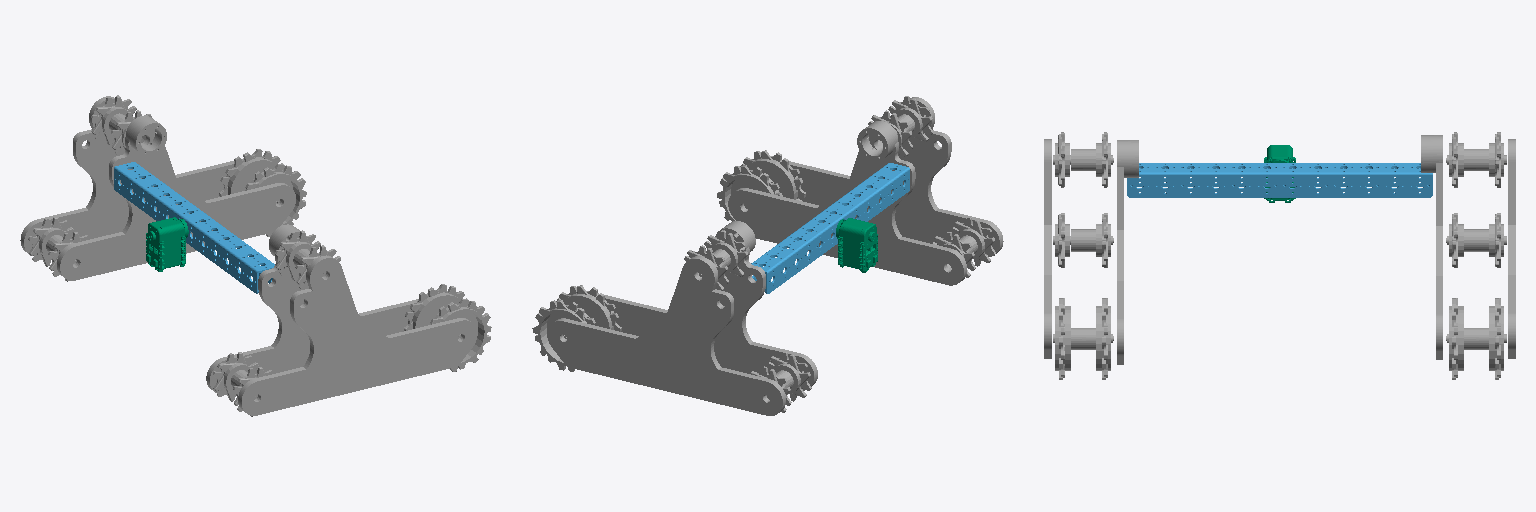
robot.urdf — aaly:
<?xml version="1.0" ?>
<robot name="aaly" xmlns:xacro="http://ros.org/wiki/xacro">

  <joint name="fixed" type="fixed">
      <parent link="world"/>
      <child link="track_creator__base_link"/>
  </joint>
  <joint name="track_creator__j1" type="continuous">
    <parent link="track_creator__base_link"/>
    <child link="track_creator__motor1"/>
    <origin rpy="0 0 0" xyz="-0.107 0 0.12427"/>
    <axis xyz="1 0 0"/>
    <limit effort="0" lower="0" upper="0" velocity="0"/>
  </joint>
  <joint name="track_creator__Left_Track_Side_joint" type="fixed">
    <parent link="track_creator__base_link"/>
    <child link="track_creator__Left_Side_Track_Support"/>
    <origin rpy="0 0 0" xyz="-0.01373 -0.15812 0.06562"/>
    <axis xyz="0 0 0"/>
    <limit effort="0" lower="0" upper="0" velocity="0"/>
  </joint>
  <joint name="track_creator__Right_Track_Side_joint" type="fixed">
    <parent link="track_creator__base_link"/>
    <child link="track_creator__Right_Side_Track_Support"/>
    <origin rpy="0 0 0" xyz="-0.01373 0.15812 0.07062"/>
    <axis xyz="0 0 0"/>
    <limit effort="0" lower="0" upper="0" velocity="0"/>
  </joint>
  <joint name="track_creator__drum_joint1" type="fixed">
    <parent link="track_creator__Left_Side_Track_Support"/>
    <child link="track_creator__drum1"/>
    <origin rpy="1.57079 0 0" xyz="-0.1091 -0.038 -0.03562"/>
    <axis xyz="0 0 -1"/>
    <limit effort="0" lower="0" upper="0" velocity="0"/>
  </joint>
  <joint name="track_creator__drum_joint2" type="fixed">
    <parent link="track_creator__Right_Side_Track_Support"/>
    <child link="track_creator__drum2"/>
    <origin rpy="1.57079 0 0" xyz="-0.1091 0.038 -0.04062"/>
    <axis xyz="0 0 -1"/>
    <limit effort="0" lower="0" upper="0" velocity="0"/>
  </joint>
  <joint name="track_creator__drum_joint3" type="fixed">
    <parent link="track_creator__Left_Side_Track_Support"/>
    <child link="track_creator__drum3"/>
    <origin rpy="1.57079 0 0" xyz="0.13857 -0.038 -0.028"/>
    <axis xyz="0 0 -1"/>
    <limit effort="0" lower="0" upper="0" velocity="0"/>
  </joint>
  <joint name="track_creator__drum_joint4" type="fixed">
    <parent link="track_creator__Right_Side_Track_Support"/>
    <child link="track_creator__drum4"/>
    <origin rpy="1.57079 0 0" xyz="0.13857 0.038 -0.033"/>
    <axis xyz="0 0 -1"/>
    <limit effort="0" lower="0" upper="0" velocity="0"/>
  </joint>
  <joint name="track_creator__drum_joint5" type="fixed">
    <parent link="track_creator__Left_Side_Track_Support"/>
    <child link="track_creator__drum5"/>
    <origin rpy="1.57079 0 0" xyz="-0.03231 -0.038 0.08871"/>
    <axis xyz="0 0 -1"/>
    <limit effort="0" lower="0" upper="0" velocity="0"/>
  </joint>
  <joint name="track_creator__drum_joint6" type="fixed">
    <parent link="track_creator__Right_Side_Track_Support"/>
    <child link="track_creator__drum6"/>
    <origin rpy="1.57079 0 0" xyz="-0.03231 0.038 0.08371"/>
    <axis xyz="0 0 -1"/>
    <limit effort="0" lower="0" upper="0" velocity="0"/>
  </joint>
  <joint name="track_creator__Left_Side_Track_Cover_joint" type="fixed">
    <parent link="track_creator__Left_Side_Track_Support"/>
    <child link="track_creator__Left_Side_Track_Cover"/>
    <origin rpy="0 0 0" xyz="0.00029 -0.07299 -0.00449"/>
    <axis xyz="0 0 0"/>
    <limit effort="0" lower="0" upper="0" velocity="0"/>
  </joint>
  <joint name="track_creator__Right_Side_Track_Cover_joint" type="fixed">
    <parent link="track_creator__Right_Side_Track_Support"/>
    <child link="track_creator__Right_Side_Track_Cover"/>
    <origin rpy="0 0 0" xyz="0.00029 0.07299 -0.0095"/>
    <axis xyz="0 0 0"/>
    <limit effort="0" lower="0" upper="0" velocity="0"/>
  </joint>

  <!-- Used for fixing robot to Gazebo 'base_link' -->
  <link name="world"/>

  <link name="track_creator__base_link">
    <inertial>
      <mass value="0.36"/>
      <origin rpy="0 0 0" xyz="0 0 0"/>
      <inertia ixx="0.0028086383999999997" ixy="0.0" ixz="0.0" iyy="4.3094400000000005e-05" iyz="0.0" izz="0.0028086383999999997"/>
    </inertial>
    <collision name="track_creator__base_link_collision">
      <origin rpy="0 0 0" xyz="-0.07 0 0.12427"/>
      <geometry>
        <box size="0.026988 0.3000 0.026988"/>
      </geometry>
    </collision>
    <visual name="track_creator__base_link_visual">
      <origin rpy="0 0 0" xyz="-0.07 0 0.12427"/>
      <geometry>
        <mesh filename="package://aaly_urdf/meshes/Horizontal_Support_Bar_ASB-512.dae" scale="1.0 1.0 1.0"/>
      </geometry>
    </visual>
  </link>
  <link name="track_creator__motor1">
    <inertial>
      <mass value="0.055"/>
      <origin rpy="0 0 0" xyz="0 0 0"/>
      <inertia ixx="1.8791666666e-05" ixy="0.0" ixz="0.0" iyy="1.7086666666e-05" iyz="0.0" izz="1.2026666666e-05"/>
    </inertial>
    <collision name="track_creator__motor1_collision">
      <origin rpy="0 0 0" xyz="0 0 0"/>
      <geometry>
        <box size="0.04 0.032 0.050"/>
      </geometry>
    </collision>
    <visual name="track_creator__motor1_visual">
      <origin rpy="0 0 0" xyz="0 0 0"/>
      <geometry>
        <mesh filename="package://aaly_urdf/meshes/AX12-A_origin_same_as_center_of_mass.stl" scale="1.0 1.0 1.0"/>
      </geometry>
    </visual>
  </link>
  <link name="track_creator__Left_Side_Track_Support">
    <inertial>
      <mass value="0.05"/>
      <origin rpy="0 0 0" xyz="0 0 0"/>
      <inertia ixx="0" ixy="0" ixz="0" iyy="0" iyz="0" izz="0"/>
    </inertial>
    <collision name="track_creator__Left_Side_Track_Support_collision">
      <origin rpy="0 0 0" xyz="0 0 0.015"/>
      <geometry>
        <mesh filename="package://aaly_urdf/meshes/Track_Support_Collision_Mesh.dae" scale="1.0 1.0 1.0"/>
      </geometry>
    </collision>
    <visual name="track_creator__Left_Side_Track_Support_visual">
      <origin rpy="0 0 0" xyz="0 0 0"/>
      <geometry>
        <mesh filename="package://aaly_urdf/meshes/Track_Support_Left_Side.dae" scale="1.0 1.0 1.0"/>
      </geometry>
    </visual>
  </link>
  <link name="track_creator__Right_Side_Track_Support">
    <inertial>
      <mass value="0.05"/>
      <origin rpy="0 0 0" xyz="0 0 0"/>
      <inertia ixx="0" ixy="0" ixz="0" iyy="0" iyz="0" izz="0"/>
    </inertial>
    <collision name="track_creator__Right_Side_Track_Support_collision">
      <origin rpy="0 0 0" xyz="0 0 0.015"/>
      <geometry>
        <mesh filename="package://aaly_urdf/meshes/Track_Support_Collision_Mesh.dae" scale="1.0 1.0 1.0"/>
      </geometry>
    </collision>
    <visual name="track_creator__Left_Side_Track_Support_visual">
      <origin rpy="0 0 0" xyz="0 0 0"/>
      <geometry>
        <mesh filename="package://aaly_urdf/meshes/Track_Support_Right_Side.dae" scale="1.0 1.0 1.0"/>
      </geometry>
    </visual>
  </link>
  <link name="track_creator__drum1">
    <inertial>
      <mass value="0.1"/>
      <origin rpy="0 0 0" xyz="0 0 0"/>
      <inertia ixx="4.0003370625000006e-05" ixy="0.0" ixz="0.0" iyy="4.0003370625000006e-05" iyz="0.0" izz="3.624778125000001e-05"/>
    </inertial>
    <collision name="track_creator__drum1_collision">
      <origin rpy="0 0 0" xyz="0 0 0"/>
      <geometry>
        <cylinder length="0.05124" radius="0.026525"/>
      </geometry>
    </collision>
    <visual name="track_creator__drum1_visual">
      <origin rpy="0 0 0" xyz="0 0 0"/>
      <geometry>
        <mesh filename="package://aaly_urdf/meshes/Lynx_Sproket6in_Hub13.dae" scale="1.0 1.0 1.0"/>
      </geometry>
    </visual>
  </link>
  <link name="track_creator__drum2">
    <inertial>
      <mass value="0.1"/>
      <origin rpy="0 0 0" xyz="0 0 0"/>
      <inertia ixx="4.0003370625000006e-05" ixy="0.0" ixz="0.0" iyy="4.0003370625000006e-05" iyz="0.0" izz="3.624778125000001e-05"/>
    </inertial>
    <collision name="track_creator__drum2_collision">
      <origin rpy="0 0 0" xyz="0 0 0"/>
      <geometry>
        <cylinder length="0.05124" radius="0.026525"/>
      </geometry>
    </collision>
    <visual name="track_creator__drum2_visual">
      <origin rpy="0 0 0" xyz="0 0 0"/>
      <geometry>
        <mesh filename="package://aaly_urdf/meshes/Lynx_Sproket6in_Hub13.dae" scale="1.0 1.0 1.0"/>
      </geometry>
    </visual>
  </link>
  <link name="track_creator__drum3">
    <inertial>
      <mass value="0.15"/>
      <origin rpy="0 0 0" xyz="0 0 0"/>
      <inertia ixx="5.5414245624999996e-05" ixy="0.0" ixz="0.0" iyy="5.5414245624999996e-05" iyz="0.0" izz="0.000100604296875"/>
    </inertial>
    <collision name="track_creator__drum3_collision">
      <origin rpy="0 0 0" xyz="0 0 0"/>
      <geometry>
        <cylinder length="0.05124" radius="0.035625"/>
      </geometry>
    </collision>
    <visual name="track_creator__drum3_visual">
      <origin rpy="0 0 0" xyz="0 0 0"/>
      <geometry>
        <mesh filename="package://aaly_urdf/meshes/Lynx_Sproket9in_Hub13.dae" scale="1.0 1.0 1.0"/>
      </geometry>
    </visual>
  </link>
  <link name="track_creator__drum4">
    <inertial>
      <mass value="0.15"/>
      <origin rpy="0 0 0" xyz="0 0 0"/>
      <inertia ixx="5.5414245624999996e-05" ixy="0.0" ixz="0.0" iyy="5.5414245624999996e-05" iyz="0.0" izz="0.000100604296875"/>
    </inertial>
    <collision name="track_creator__drum4_collision">
      <origin rpy="0 0 0" xyz="0 0 0"/>
      <geometry>
        <cylinder length="0.05124" radius="0.035625"/>
      </geometry>
    </collision>
    <visual name="track_creator__drum4_visual">
      <origin rpy="0 0 0" xyz="0 0 0"/>
      <geometry>
        <mesh filename="package://aaly_urdf/meshes/Lynx_Sproket9in_Hub13.dae" scale="1.0 1.0 1.0"/>
      </geometry>
    </visual>
  </link>
  <link name="track_creator__drum5">
    <inertial>
      <mass value="0.1"/>
      <origin rpy="0 0 0" xyz="0 0 0"/>
      <inertia ixx="4.0003370625000006e-05" ixy="0.0" ixz="0.0" iyy="4.0003370625000006e-05" iyz="0.0" izz="3.624778125000001e-05"/>
    </inertial>
    <collision name="track_creator__drum5_collision">
      <origin rpy="0 0 0" xyz="0 0 0"/>
      <geometry>
        <cylinder length="0.05124" radius="0.026525"/>
      </geometry>
    </collision>
    <visual name="track_creator__drum5_visual">
      <origin rpy="0 0 0" xyz="0 0 0"/>
      <geometry>
        <mesh filename="package://aaly_urdf/meshes/Lynx_Sproket6in_Hub13.dae" scale="1.0 1.0 1.0"/>
      </geometry>
    </visual>
  </link>
  <link name="track_creator__drum6">
    <inertial>
      <mass value="0.1"/>
      <origin rpy="0 0 0" xyz="0 0 0"/>
      <inertia ixx="4.0003370625000006e-05" ixy="0.0" ixz="0.0" iyy="4.0003370625000006e-05" iyz="0.0" izz="3.624778125000001e-05"/>
    </inertial>
    <collision name="track_creator__drum6_collision">
      <origin rpy="0 0 0" xyz="0 0 0"/>
      <geometry>
        <cylinder length="0.05124" radius="0.026525"/>
      </geometry>
    </collision>
    <visual name="track_creator__drum6_visual">
      <origin rpy="0 0 0" xyz="0 0 0"/>
      <geometry>
        <mesh filename="package://aaly_urdf/meshes/Lynx_Sproket6in_Hub13.dae" scale="1.0 1.0 1.0"/>
      </geometry>
    </visual>
  </link>
  <link name="track_creator__Left_Side_Track_Cover">
    <inertial>
      <mass value="0.05"/>
      <origin rpy="0 0 0" xyz="0 0 0"/>
      <inertia ixx="0" ixy="0" ixz="0" iyy="0" iyz="0" izz="0"/>
    </inertial>
    <collision name="track_creator__Left_Side_Track_Cover_collision">
      <origin rpy="0 0 0" xyz="0 0 0.015"/>
      <geometry>
        <mesh filename="package://aaly_urdf/meshes/Track_Support_Collision_Mesh.dae" scale="1.0 1.0 1.0"/>
      </geometry>
    </collision>
    <visual name="track_creator__Left_Side_Track_Cover_visual">
      <origin rpy="0 0 0" xyz="0 0 0"/>
      <geometry>
        <mesh filename="package://aaly_urdf/meshes/Track_Support_Cover_Side.dae" scale="1.0 1.0 1.0"/>
      </geometry>
    </visual>
  </link>
  <link name="track_creator__Right_Side_Track_Cover">
    <inertial>
      <mass value="0.05"/>
      <origin rpy="0 0 0" xyz="0 0 0"/>
      <inertia ixx="0" ixy="0" ixz="0" iyy="0" iyz="0" izz="0"/>
    </inertial>
    <collision name="track_creator__Right_Side_Track_Cover_collision">
      <origin rpy="0 0 0" xyz="0 0 0.015"/>
      <geometry>
        <mesh filename="package://aaly_urdf/meshes/Track_Support_Collision_Mesh.dae" scale="1.0 1.0 1.0"/>
      </geometry>
    </collision>
    <visual name="track_creator__Right_Side_Track_Cover_visual">
      <origin rpy="0 0 0" xyz="0 0 0"/>
      <geometry>
        <mesh filename="package://aaly_urdf/meshes/Track_Support_Cover_Side.dae" scale="1.0 1.0 1.0"/>
      </geometry>
    </visual>
  </link>



    <!-- Replaced Gazebo's differential drive plugin with the
         ROS-friendly variant -->

  <!-- Gazebo plugin for ROS Control -->

    <gazebo>
      <plugin name="gazebo_ros_control" filename="libgazebo_ros_control.so">
        <robotNamespace></robotNamespace>
        <robotSimType>gazebo_ros_control/DefaultRobotHWSim</robotSimType>
      </plugin>

      <plugin name='differential_drive_controller'
              filename='libgazebo_ros_diff_drive.so'>
        <alwaysOn>true</alwaysOn>
        <updateRate>100</updateRate>
        <leftJoint>track_creator__drum_joint5</leftJoint>
        <rightJoint>track_creator__drum_joint6</rightJoint>
        <wheelSeparation>0.349</wheelSeparation>
        <wheelDiameter>0.05885</wheelDiameter>
        <torque>20</torque>
        <commandTopic>cmd_vel</commandTopic>
        <odometryTopic>odom</odometryTopic>
        <odometryFrame>odom</odometryFrame>
        <robotBaseFrame>chassis</robotBaseFrame>
      </plugin>

    </gazebo>

  <transmission name="tran1">
    <type>transmission_interface/SimpleTransmission</type>
    <joint name="track_creator__j1">
      <hardwareInterface>hardware_interface/EffortJointInterface</hardwareInterface>
    </joint>
    <actuator name="track_creator__motor1">
      <hardwareInterface>hardware_interface/EffortJointInterface</hardwareInterface>
      <mechanicalReduction>1</mechanicalReduction>
    </actuator>
  </transmission>

</robot>

--- Facts derived from the render (not from the file) ---
3 views of the same robot in one strip: view 1: azimuth 30°, elevation 25°; view 2: azimuth 150°, elevation 25°; view 3: azimuth 270°, elevation 25° (orthographic).
Robot: aaly — 13 links, 12 joints (1 continuous, 11 fixed); root link world; default pose: all joints at 0.
Visible links, largest first — view 1: track_creator__Left_Side_Track_Cover, track_creator__Right_Side_Track_Support, track_creator__base_link, track_creator__Right_Side_Track_Cover, track_creator__Left_Side_Track_Support, track_creator__drum3, track_creator__drum4, track_creator__motor1, track_creator__drum5, track_creator__drum6, track_creator__drum2, track_creator__drum1; view 2: track_creator__Right_Side_Track_Cover, track_creator__Left_Side_Track_Support, track_creator__Left_Side_Track_Cover, track_creator__Right_Side_Track_Support, track_creator__base_link, track_creator__drum3, track_creator__drum4, track_creator__motor1, track_creator__drum5, track_creator__drum1, track_creator__drum6, track_creator__drum2; view 3: track_creator__base_link, track_creator__drum3, track_creator__drum4, track_creator__Left_Side_Track_Support, track_creator__Right_Side_Track_Support, track_creator__drum1, track_creator__drum5, track_creator__drum6, track_creator__drum2, track_creator__Left_Side_Track_Cover, track_creator__Right_Side_Track_Cover, track_creator__motor1.
Link boxes in pixels (left/top/right/bottom): track_creator__Left_Side_Track_Cover: left=238, top=255, right=477, bottom=415; track_creator__Right_Side_Track_Support: left=57, top=116, right=295, bottom=280; track_creator__base_link: left=114, top=162, right=274, bottom=293; track_creator__Right_Side_Track_Cover: left=20, top=96, right=233, bottom=253; track_creator__Left_Side_Track_Support: left=206, top=224, right=417, bottom=392; track_creator__drum3: left=404, top=284, right=491, bottom=371; track_creator__drum4: left=219, top=149, right=306, bottom=236; track_creator__motor1: left=146, top=217, right=188, bottom=271; track_creator__drum5: left=275, top=230, right=340, bottom=289; track_creator__drum6: left=91, top=95, right=151, bottom=155; track_creator__drum2: left=28, top=217, right=88, bottom=281; track_creator__drum1: left=213, top=352, right=273, bottom=416; track_creator__Right_Side_Track_Cover: left=547, top=256, right=785, bottom=415; track_creator__Left_Side_Track_Support: left=728, top=121, right=966, bottom=285; track_creator__Left_Side_Track_Cover: left=789, top=97, right=1003, bottom=256; track_creator__Right_Side_Track_Support: left=597, top=221, right=817, bottom=390; track_creator__base_link: left=751, top=163, right=909, bottom=293; track_creator__drum3: left=717, top=150, right=805, bottom=221; track_creator__drum4: left=532, top=285, right=621, bottom=371; track_creator__motor1: left=836, top=218, right=877, bottom=272; track_creator__drum5: left=868, top=96, right=932, bottom=156; track_creator__drum1: left=931, top=217, right=995, bottom=277; track_creator__drum6: left=684, top=230, right=748, bottom=290; track_creator__drum2: left=750, top=352, right=811, bottom=412; track_creator__base_link: left=1127, top=163, right=1432, bottom=197; track_creator__drum3: left=1053, top=298, right=1113, bottom=379; track_creator__drum4: left=1446, top=298, right=1506, bottom=379; track_creator__Left_Side_Track_Support: left=1117, top=140, right=1138, bottom=364; track_creator__Right_Side_Track_Support: left=1421, top=135, right=1442, bottom=359; track_creator__drum1: left=1053, top=213, right=1113, bottom=267; track_creator__drum5: left=1053, top=132, right=1113, bottom=187; track_creator__drum6: left=1446, top=132, right=1506, bottom=187; track_creator__drum2: left=1446, top=213, right=1506, bottom=267; track_creator__Left_Side_Track_Cover: left=1044, top=139, right=1051, bottom=358; track_creator__Right_Side_Track_Cover: left=1508, top=139, right=1515, bottom=358; track_creator__motor1: left=1264, top=145, right=1295, bottom=202.
Size in the robot's own frame: 0.3162 by 0.4697 by 0.1844 metres.
12 mesh visuals loaded from 7 distinct referenced files (1 binary STL, 6 Collada DAE).
